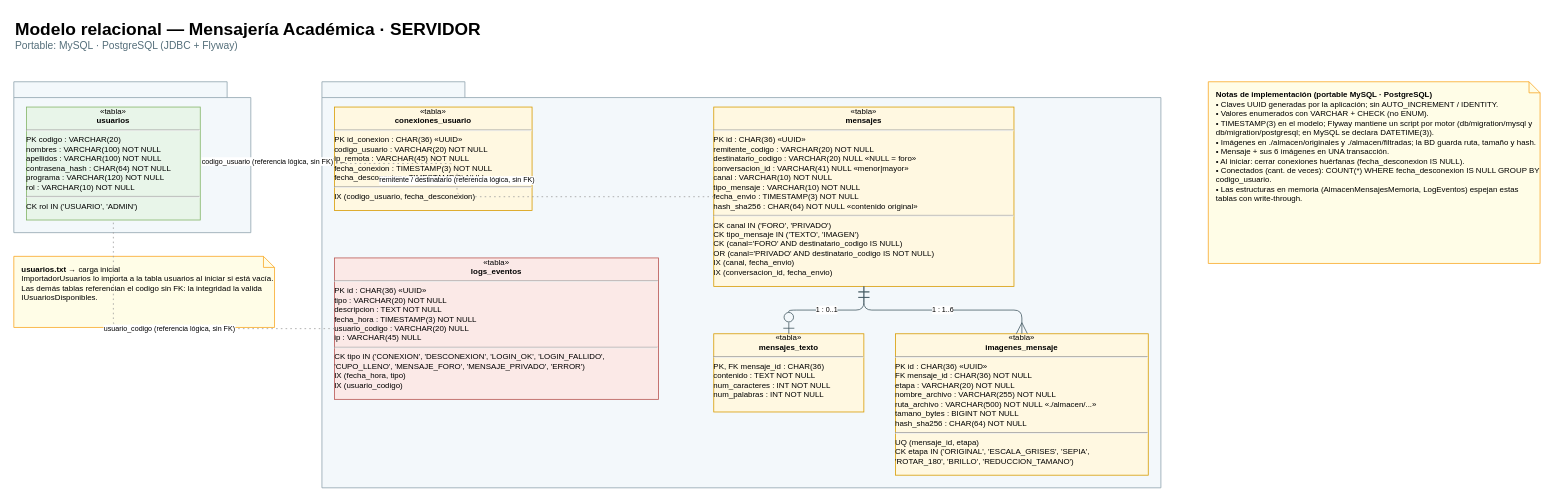
The diagram is 1554 pixels wide and 502 high, and some of its shapes have lost their labels. Each missing label, with the box of its shape:
Esquema de mensajería: (321, 81, 1161, 488)
Propiedad del componente Usuarios: (13, 81, 251, 233)
